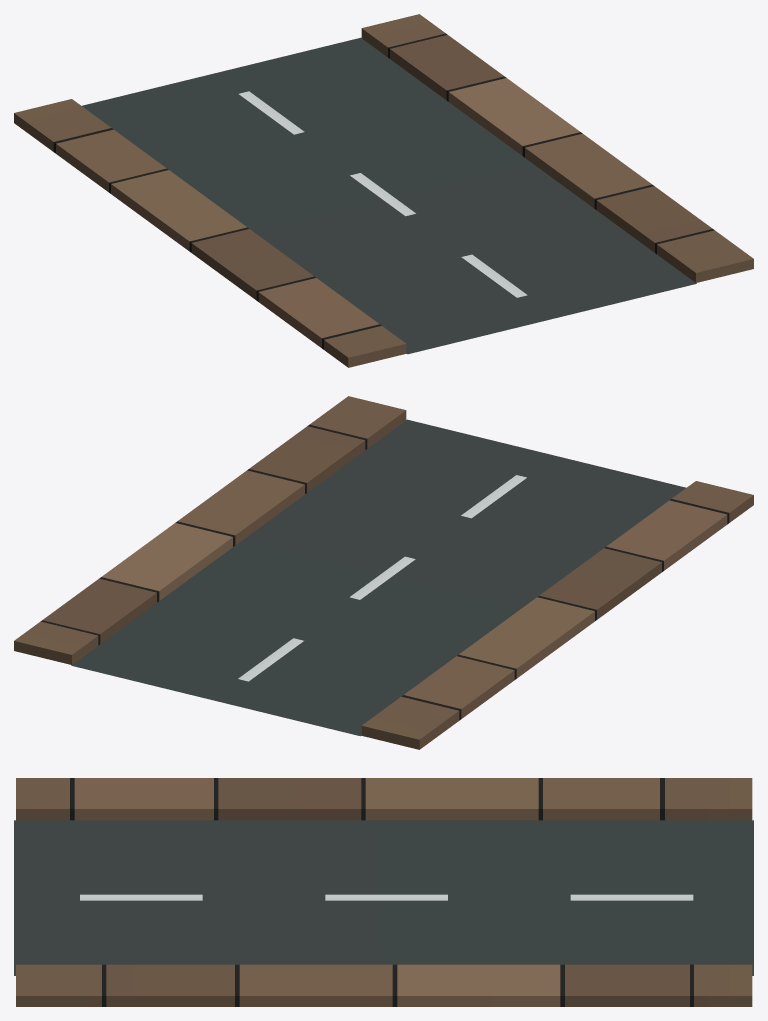
File: Road_1_102.fbx
3 renders of one model, top to bottom at view 1: azimuth 30°, elevation 25°; view 2: azimuth 150°, elevation 25°; view 3: azimuth 270°, elevation 25°, orthographic. The views are drawn at different scales.
Parts seen in each view (by area): view 1: Road_1_102; view 2: Road_1_102; view 3: Road_1_102.
Part boxes in pixels (bbox=[...]): Road_1_102: bbox=[14, 14, 753, 367]; Road_1_102: bbox=[14, 396, 753, 749]; Road_1_102: bbox=[14, 778, 753, 1006].
Bounding box in the file's own units: 1260 × 30 × 1809.
